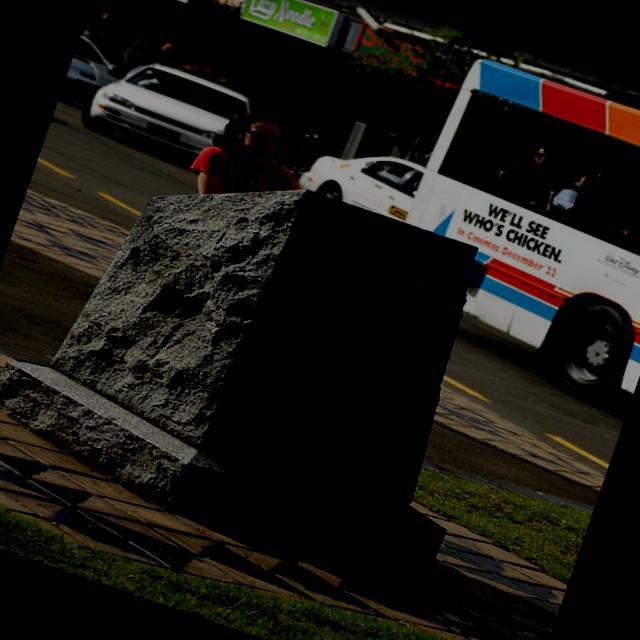Vehicle: (362, 46, 640, 415), (84, 45, 270, 174), (297, 128, 427, 226), (60, 34, 119, 104)
